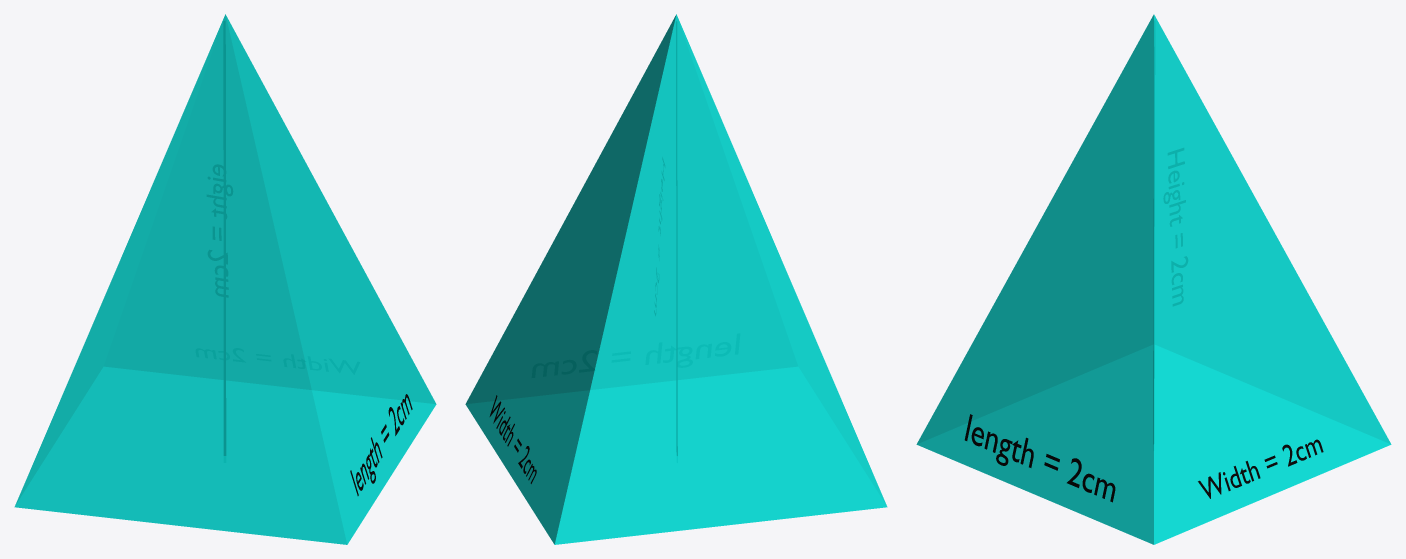
3 renders of one model, left to right at view 1: azimuth 30°, elevation 25°; view 2: azimuth 150°, elevation 25°; view 3: azimuth 270°, elevation 25°, orthographic. The views are drawn at different scales.
Parts seen in each view (by area): view 1: Cone, Plane, length; view 2: Cone, width; view 3: Cone, length, width.
Boxes of the visible parts, bbox=[...] form: Cone: bbox=[14, 14, 436, 544]; Plane: bbox=[224, 21, 225, 455]; length: bbox=[350, 394, 412, 495]; Cone: bbox=[465, 14, 887, 544]; width: bbox=[489, 395, 536, 483]; Cone: bbox=[916, 14, 1391, 544]; length: bbox=[964, 414, 1115, 502]; width: bbox=[1198, 439, 1323, 498].
Bounding box in the file's own units: 0.2 × 0.2032 × 0.2.
